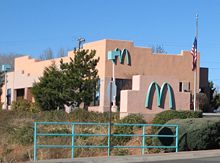mcdonalds: (143, 81, 172, 107), (110, 46, 131, 64)
